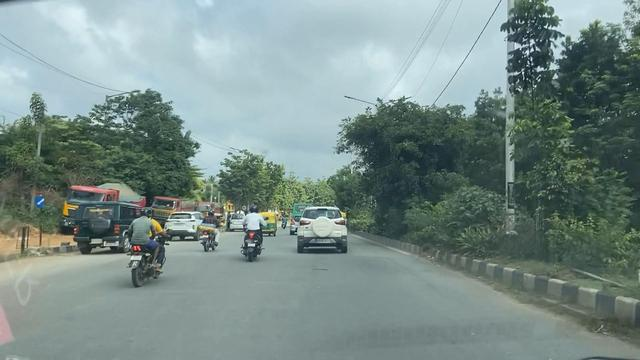HMV: (59, 197, 156, 258), (57, 180, 148, 245)
LMV: (127, 199, 171, 292), (236, 184, 273, 275), (294, 205, 350, 258), (275, 209, 311, 246), (196, 207, 224, 254)
RoadDamages: (306, 259, 352, 284)
